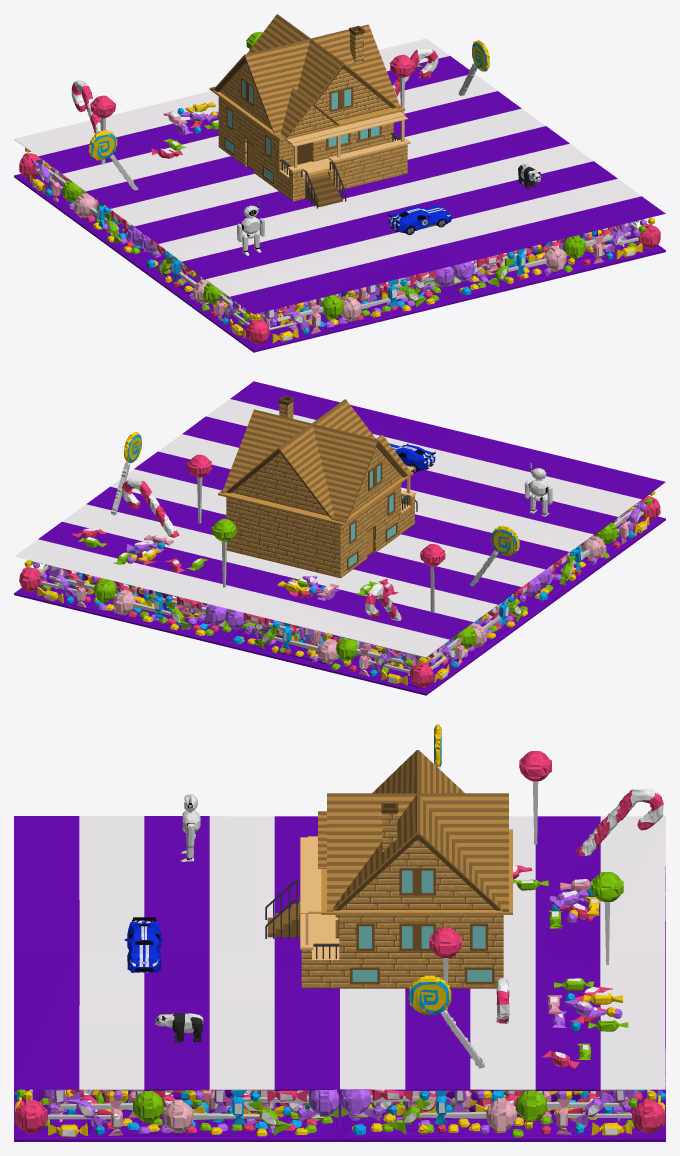
3 views of the same model, one above another, from view 1: azimuth 30°, elevation 25°; view 2: azimuth 150°, elevation 25°; view 3: azimuth 270°, elevation 25° (orthographic). The views are drawn at different scales.
Parts seen in each view (by area): view 1: TERRAIN_CANDY, Cube.508, VEHICLES_RACING_CAR, OBJRANDOM_PLATZEEBOT; view 2: TERRAIN_CANDY, Cube.508, OBJRANDOM_PLATZEEBOT, VEHICLES_RACING_CAR; view 3: TERRAIN_CANDY, Cube.508, VEHICLES_RACING_CAR, ANIMAL_PANDA, OBJRANDOM_PLATZEEBOT.
Part boxes in pixels (x1,y1,x2,y2): TERRAIN_CANDY: (14,31,665,352); Cube.508: (209,14,410,208); VEHICLES_RACING_CAR: (388,205,451,234); OBJRANDOM_PLATZEEBOT: (237,200,264,255); TERRAIN_CANDY: (14,381,665,695); Cube.508: (218,395,417,578); OBJRANDOM_PLATZEEBOT: (524,463,552,516); VEHICLES_RACING_CAR: (389,443,435,472); TERRAIN_CANDY: (14,724,665,1141); Cube.508: (265,750,512,988); VEHICLES_RACING_CAR: (124,917,163,972); ANIMAL_PANDA: (155,1012,203,1042); OBJRANDOM_PLATZEEBOT: (180,794,200,861).
Bounding box in the file's own units: 4059 × 1584 × 4000.
Materials: 30 (3 with a texture image).
